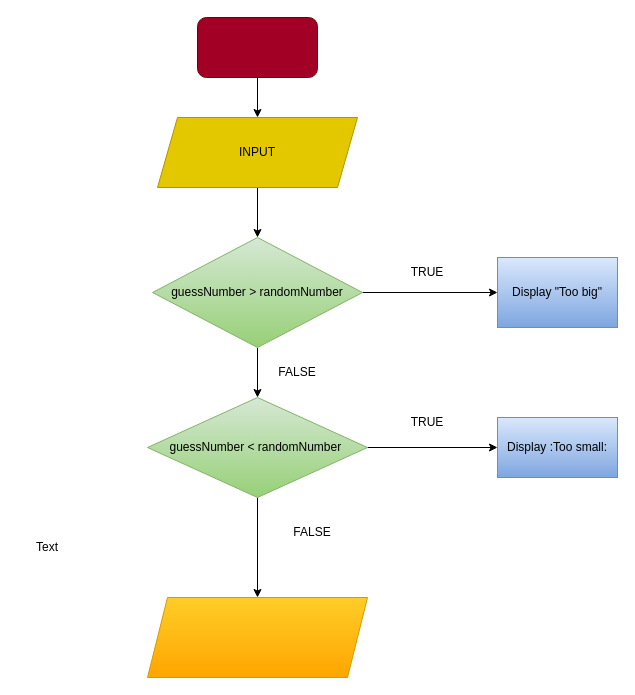
Some shapes in this 635 by 695 pixel diagram are drawn without their labels. Here are the shapes that lost their labels. From the top down, the centre of each, then its label:
the point at 257,47: START
the point at 257,637: guessNumber = randomNumber
